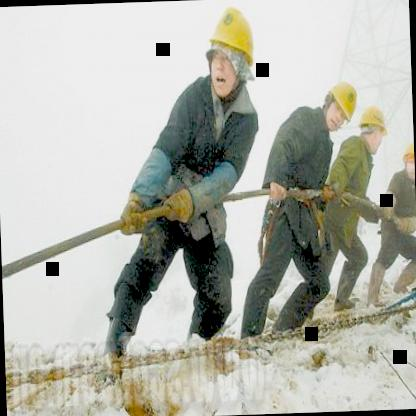helmet: (201, 0, 262, 113), (320, 75, 364, 136), (356, 102, 390, 154), (400, 136, 416, 182)
